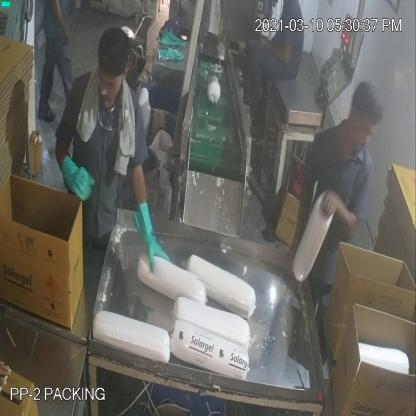glove: (131, 191, 172, 275), (60, 151, 96, 208)
no_glove: (281, 154, 317, 279), (321, 182, 363, 251), (258, 31, 294, 74), (46, 1, 74, 45)
